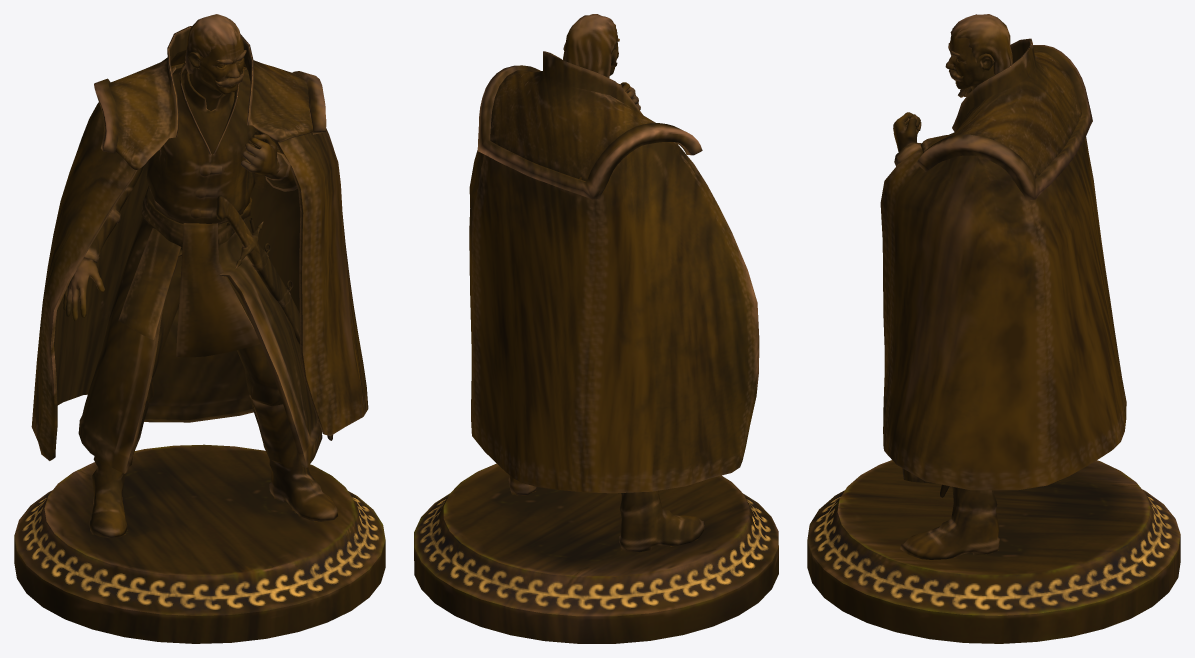
The model's file is figurka_magnat.fbx.
3 renders of one model, left to right at view 1: azimuth 30°, elevation 25°; view 2: azimuth 150°, elevation 25°; view 3: azimuth 270°, elevation 25°, orthographic.
Parts seen in each view (by area): view 1: figurka_magnat; view 2: figurka_magnat; view 3: figurka_magnat.
Boxes of the visible parts, bbox=[...] form: figurka_magnat: bbox=[14, 14, 385, 643]; figurka_magnat: bbox=[414, 14, 778, 643]; figurka_magnat: bbox=[807, 14, 1180, 643].
Size of the model in its own units: 0.0304 by 0.0497 by 0.0304.
Materials: 1 (1 with a texture image).
